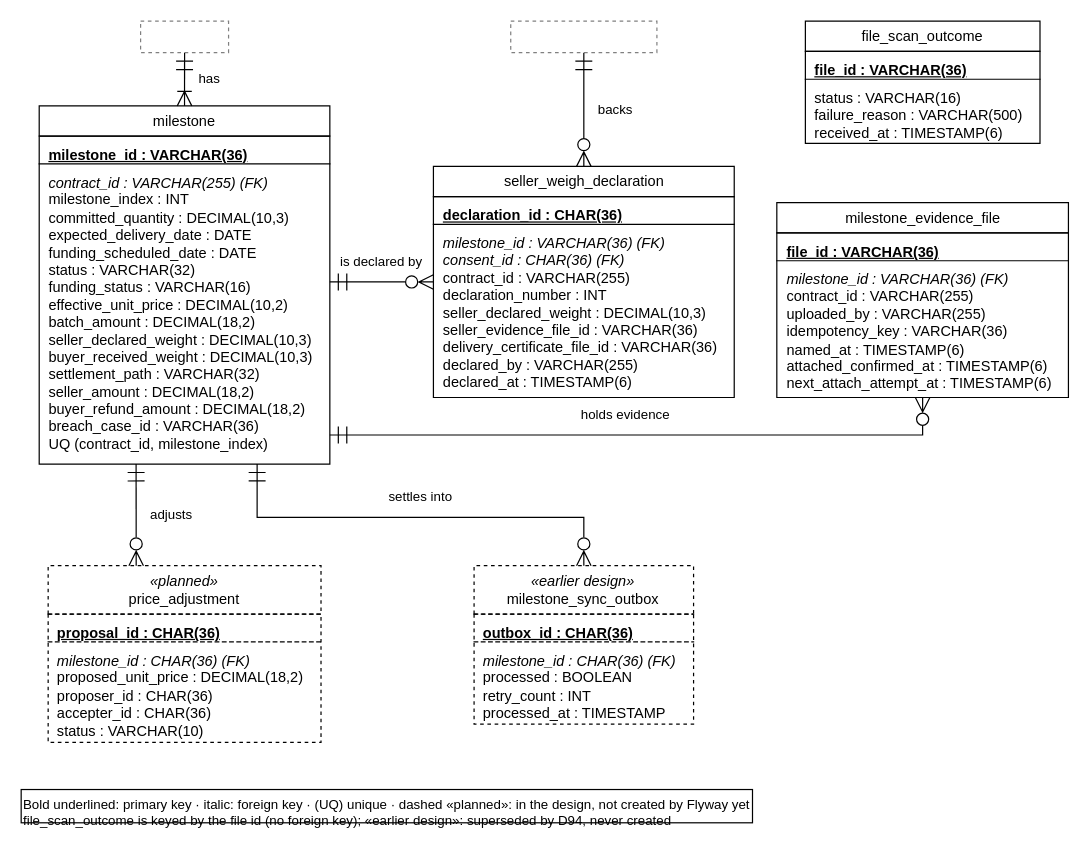
Some shapes in this 1090 by 851 pixel diagram are drawn without their labels. The shapes that lost their labels are listed below. From the top down, each one's centre as x and y in pixels, then its label:
At point (184, 36): "contracts".
At point (583, 36): "consent_evidence".
